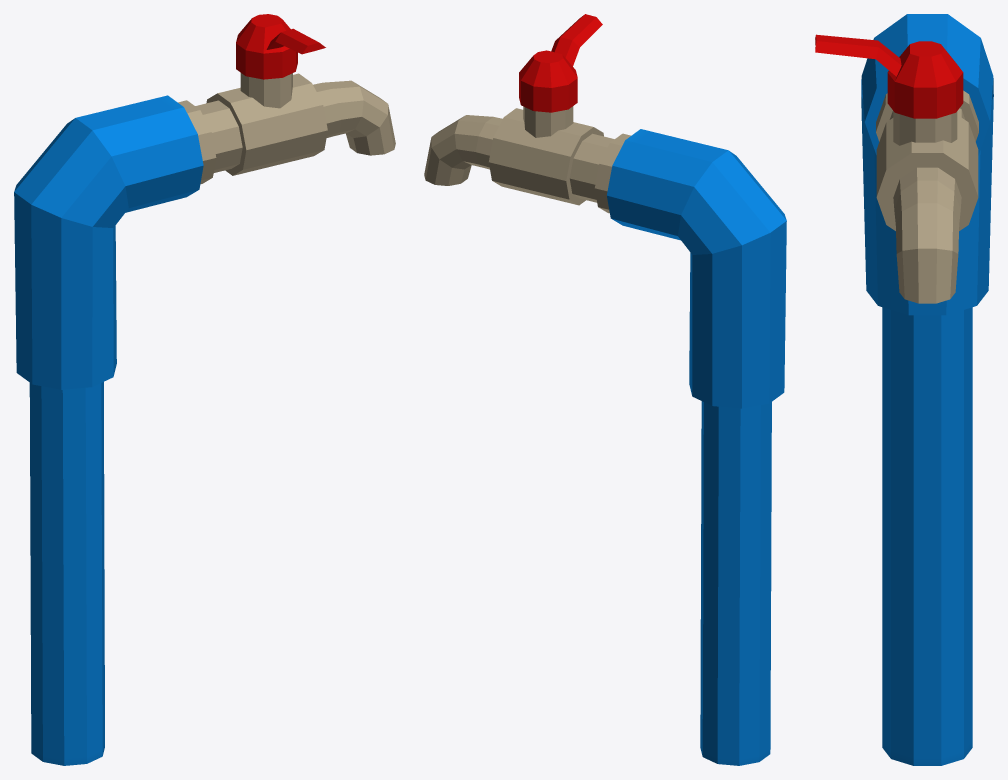
The model's file is Faucet.fbx.
The picture shows the model from 3 angles, left to right: view 1: azimuth 30°, elevation 25°; view 2: azimuth 150°, elevation 25°; view 3: azimuth 270°, elevation 25°; orthographic projection. The views are drawn at different scales.
Parts seen in each view (by area): view 1: Cylinder.001; view 2: Cylinder.001; view 3: Cylinder.001.
Boxes of the visible parts, x1,y1,x2,y2 form: Cylinder.001: (14,14,395,765); Cylinder.001: (424,14,786,765); Cylinder.001: (815,14,993,765).
Bounding box in the file's own units: 56.22 × 101 × 19.72.
